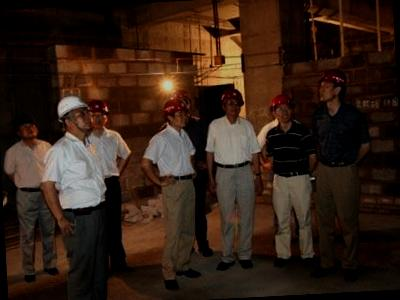no_helmet: (9, 113, 42, 141)
